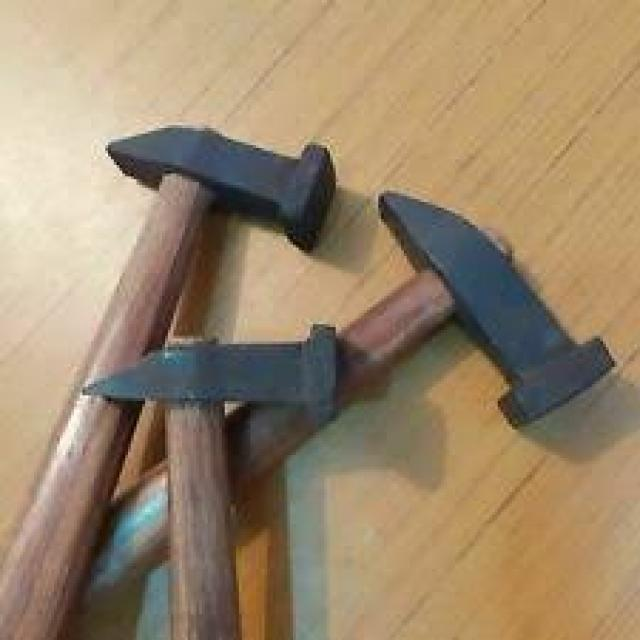hammer: (0, 176, 629, 640), (0, 116, 352, 640), (76, 318, 344, 640)
